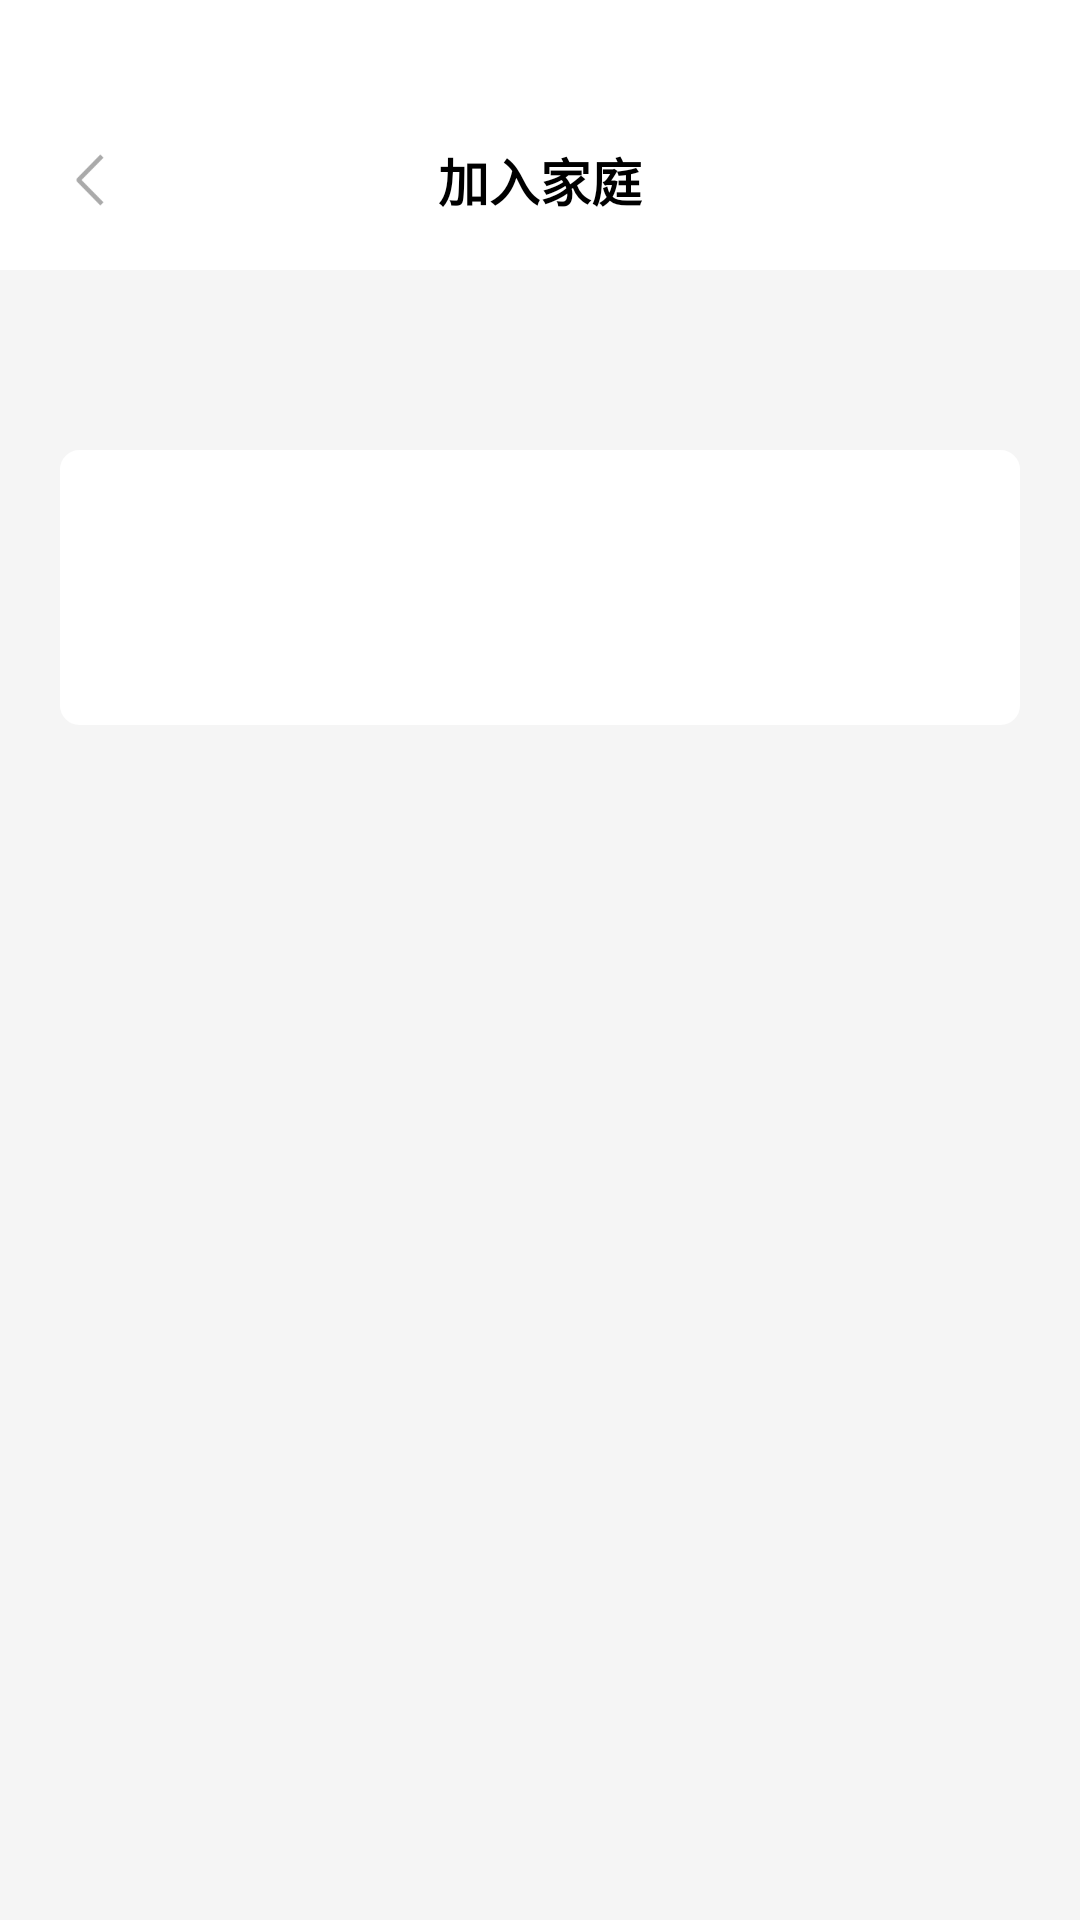

Screen size 1080x1920. Icon name, then its box in pixels as [x1=x1, y1=y1, x2=x2, y2=y2]:
back: [x1=76, y1=155, x2=103, y2=205]
